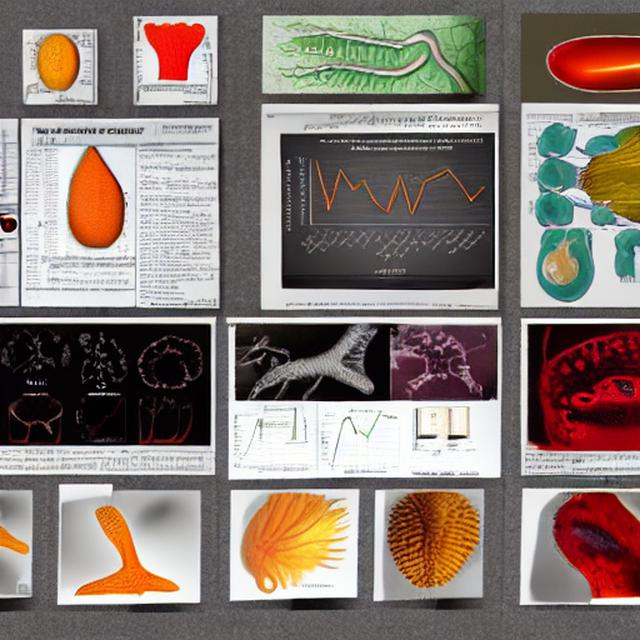Graph: (283, 134, 495, 277), (317, 404, 410, 474), (68, 390, 138, 443)
